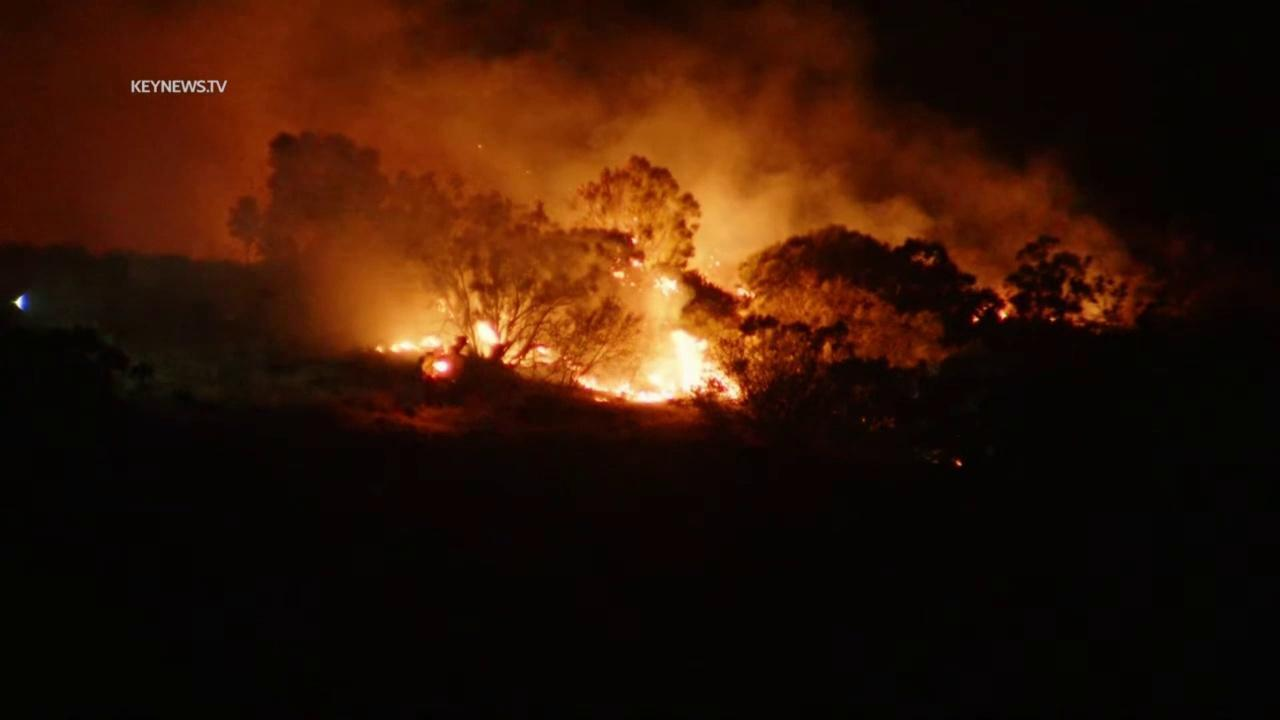fire: (569, 328, 743, 405), (374, 333, 443, 355), (473, 320, 502, 349), (652, 275, 682, 296), (435, 295, 458, 322), (734, 286, 757, 300), (430, 360, 449, 373), (628, 254, 644, 269), (608, 269, 628, 280), (995, 307, 1009, 322), (536, 344, 550, 356), (970, 314, 981, 324)
smoke: (0, 0, 1161, 411)
